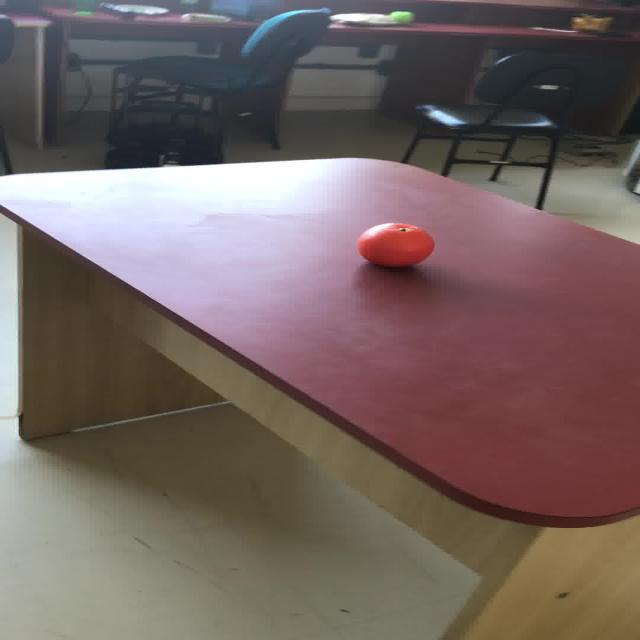orange: (356, 222, 434, 267), (388, 10, 413, 23)
